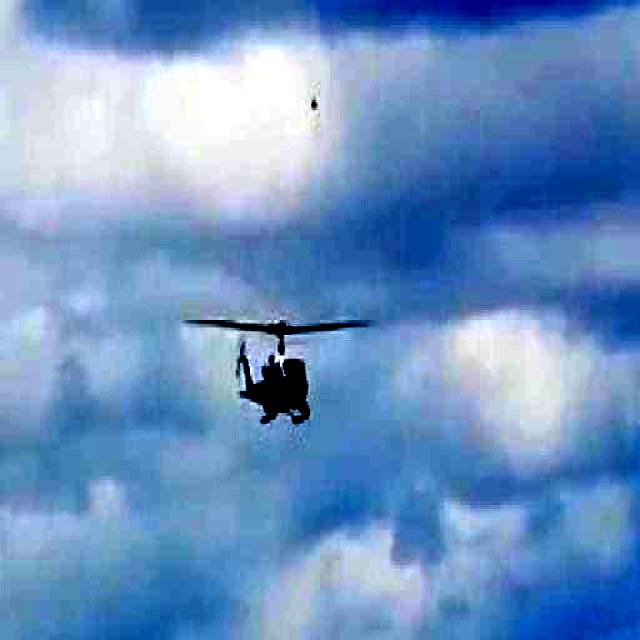drone: (181, 314, 381, 438)
